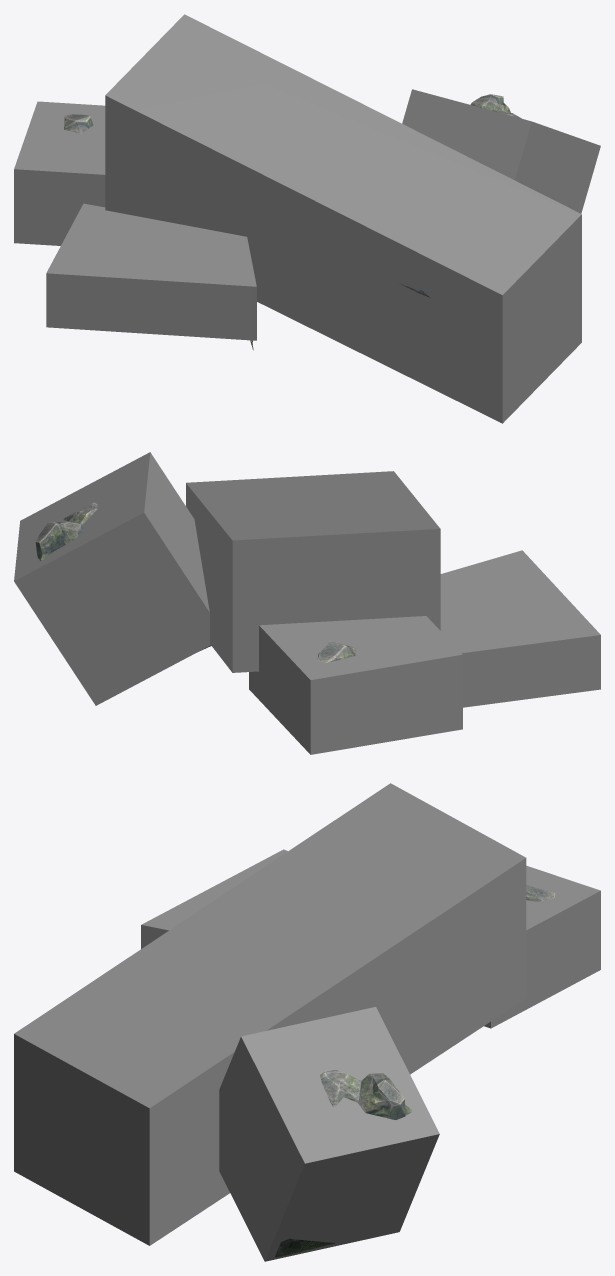
The model's file is Scene_Object_ShiDun_3.FBX.
3 renders of one model, top to bottom at view 1: azimuth 30°, elevation 25°; view 2: azimuth 150°, elevation 25°; view 3: azimuth 270°, elevation 25°, orthographic. The views are drawn at different scales.
Visible parts, largest first — view 1: Scene_Object_ShiDun_3_Xzm, Scene_Object_ShiDun_3_a; view 2: Scene_Object_ShiDun_3_Xzm, Scene_Object_ShiDun_3_a; view 3: Scene_Object_ShiDun_3_Xzm, Scene_Object_ShiDun_3_a.
Boxes of the visible parts, x1,y1,x2,y2 form: Scene_Object_ShiDun_3_Xzm: [14, 14, 600, 423]; Scene_Object_ShiDun_3_a: [64, 94, 521, 350]; Scene_Object_ShiDun_3_Xzm: [14, 452, 600, 754]; Scene_Object_ShiDun_3_a: [35, 502, 355, 662]; Scene_Object_ShiDun_3_Xzm: [14, 783, 600, 1261]; Scene_Object_ShiDun_3_a: [320, 885, 555, 1119].
Bounding box in the file's own units: 572 × 246 × 481.
